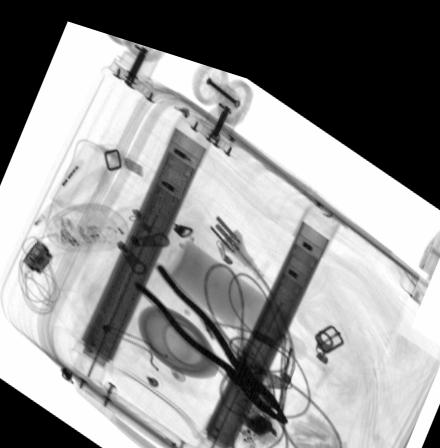Pliers: (131, 254, 288, 407)
